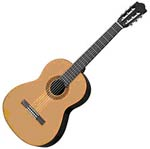guitar: (3, 1, 147, 147)
